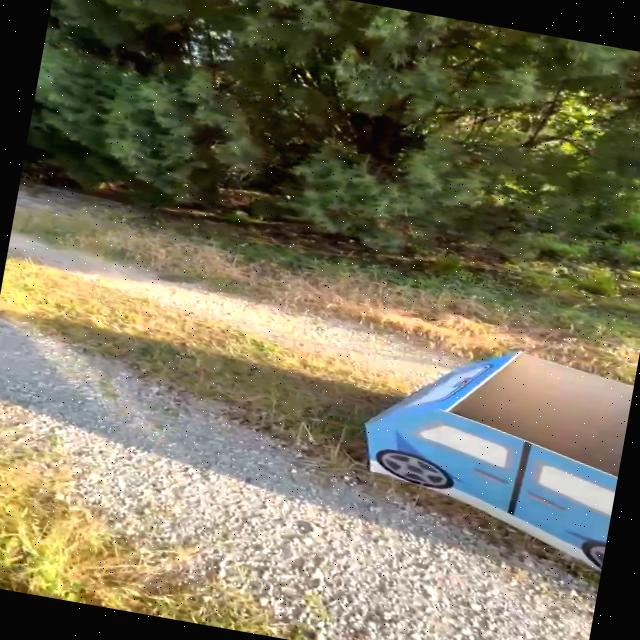blue_car: (298, 301, 639, 582)
